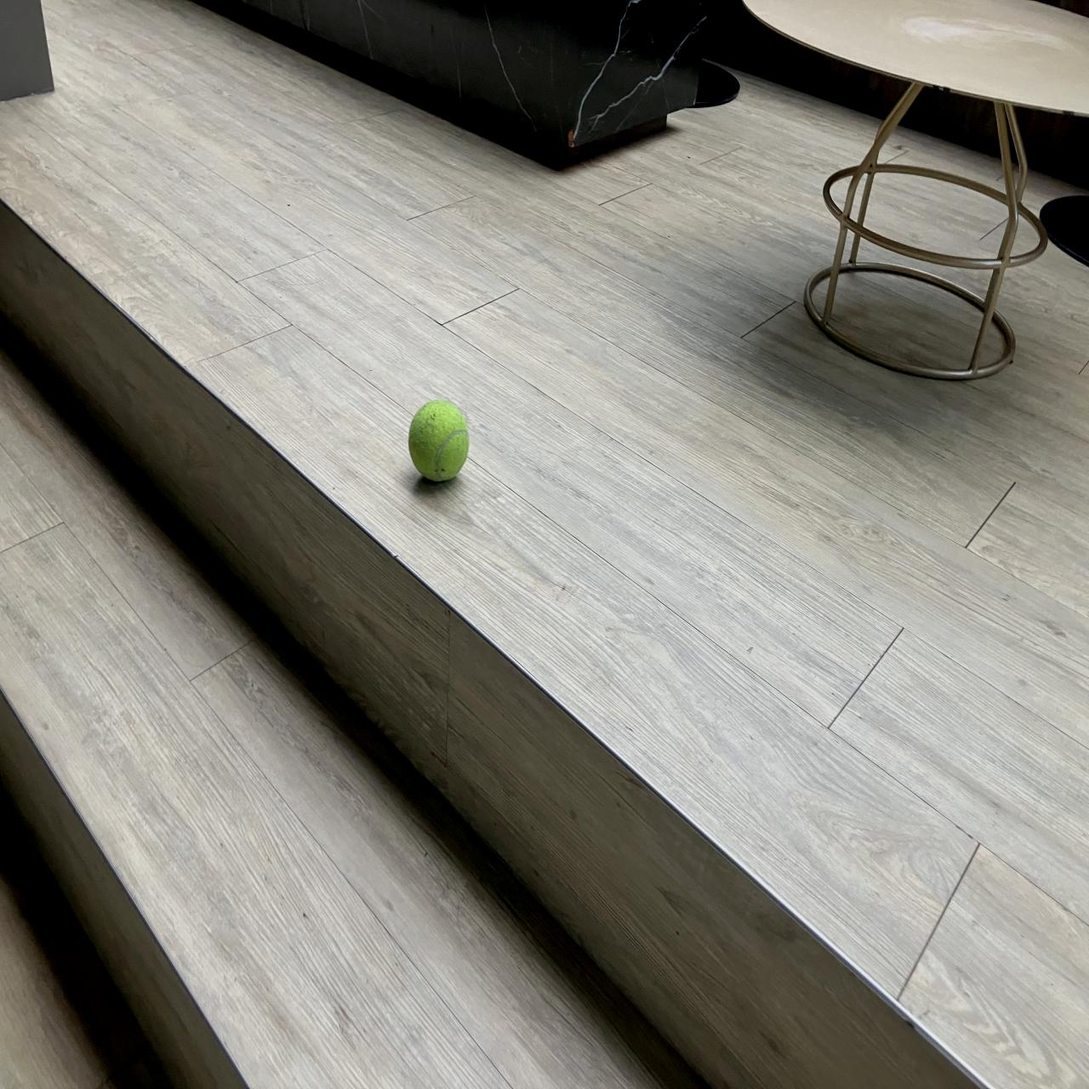tennisball: (408, 401, 469, 481)
